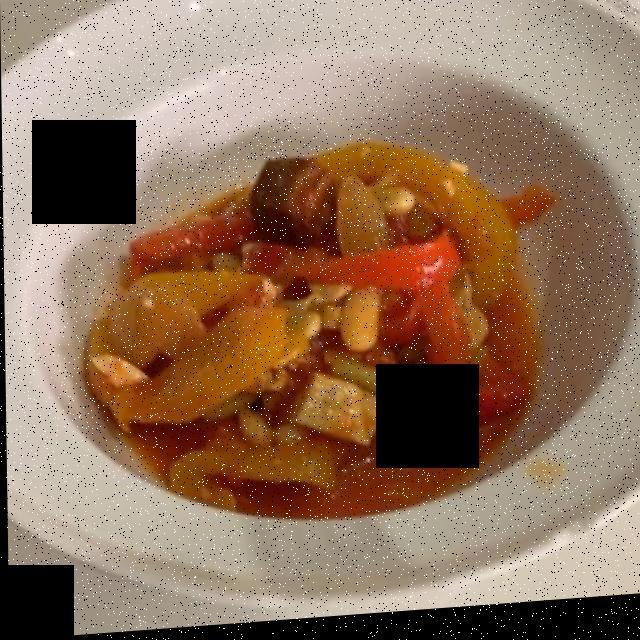chili-con-carne: (90, 150, 544, 516)
